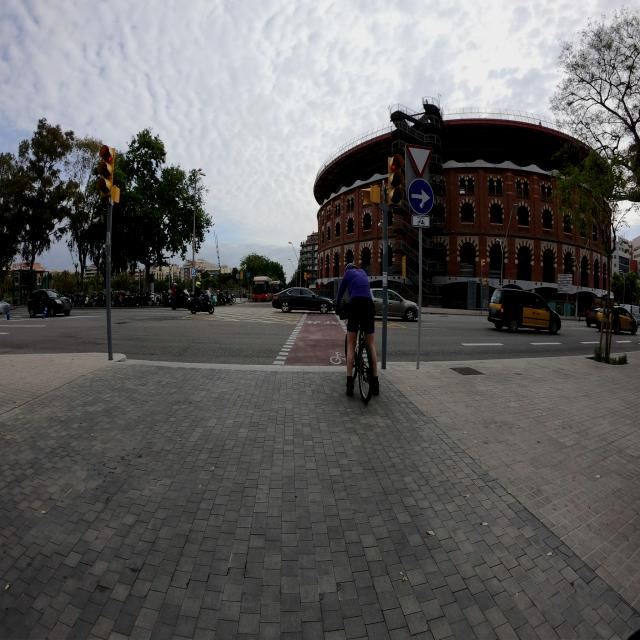bike: (336, 300, 382, 406), (339, 300, 381, 406)
car: (487, 280, 562, 334), (370, 287, 420, 323), (272, 286, 335, 314), (27, 289, 72, 318), (600, 304, 638, 334), (188, 292, 216, 315), (170, 288, 192, 310), (69, 292, 91, 308), (113, 291, 134, 307), (0, 299, 12, 319), (630, 307, 640, 328), (209, 290, 221, 306)
